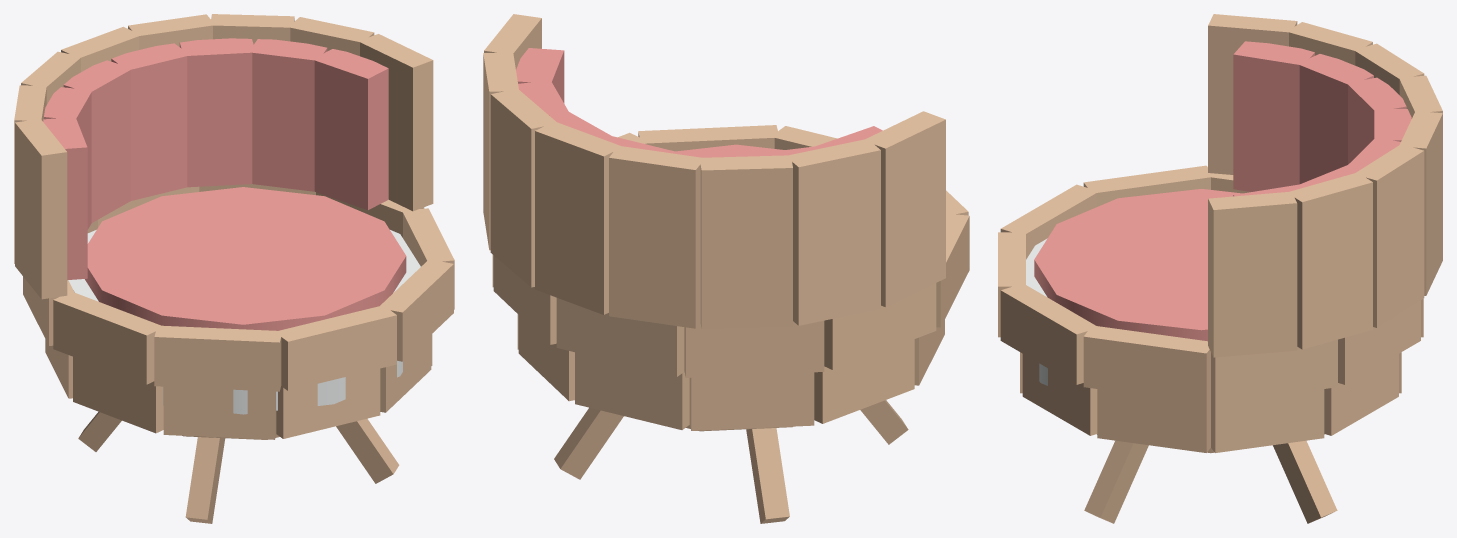
The model's file is armchairPapasan.glb.
3 renders of one model, left to right at view 1: azimuth 30°, elevation 25°; view 2: azimuth 150°, elevation 25°; view 3: azimuth 270°, elevation 25°, orthographic. The views are drawn at different scales.
Visible parts, largest first — view 1: armchairPapasan; view 2: armchairPapasan; view 3: armchairPapasan.
Boxes of the visible parts, left/top/right/bottom form: armchairPapasan: left=14, top=14, right=454, bottom=523; armchairPapasan: left=483, top=14, right=969, bottom=523; armchairPapasan: left=998, top=14, right=1442, bottom=523.
Size of the model in its own units: 0.4994 by 0.4322 by 0.4787.
